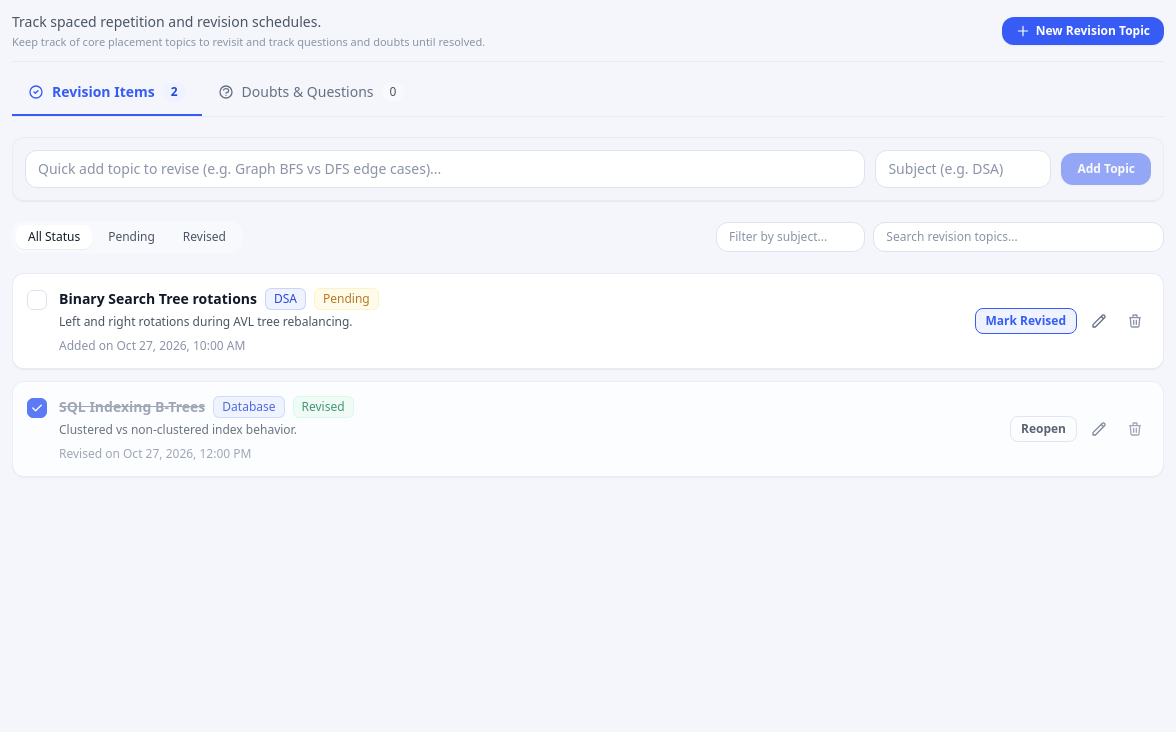
Revision & Doubt Tracking Frontend Test Suite › switches to doubts tab and renders doubts list with resolution
Click the tab "Doubts & Questions 0" at (311, 98), box x1=202 y1=82 x2=420 y2=116
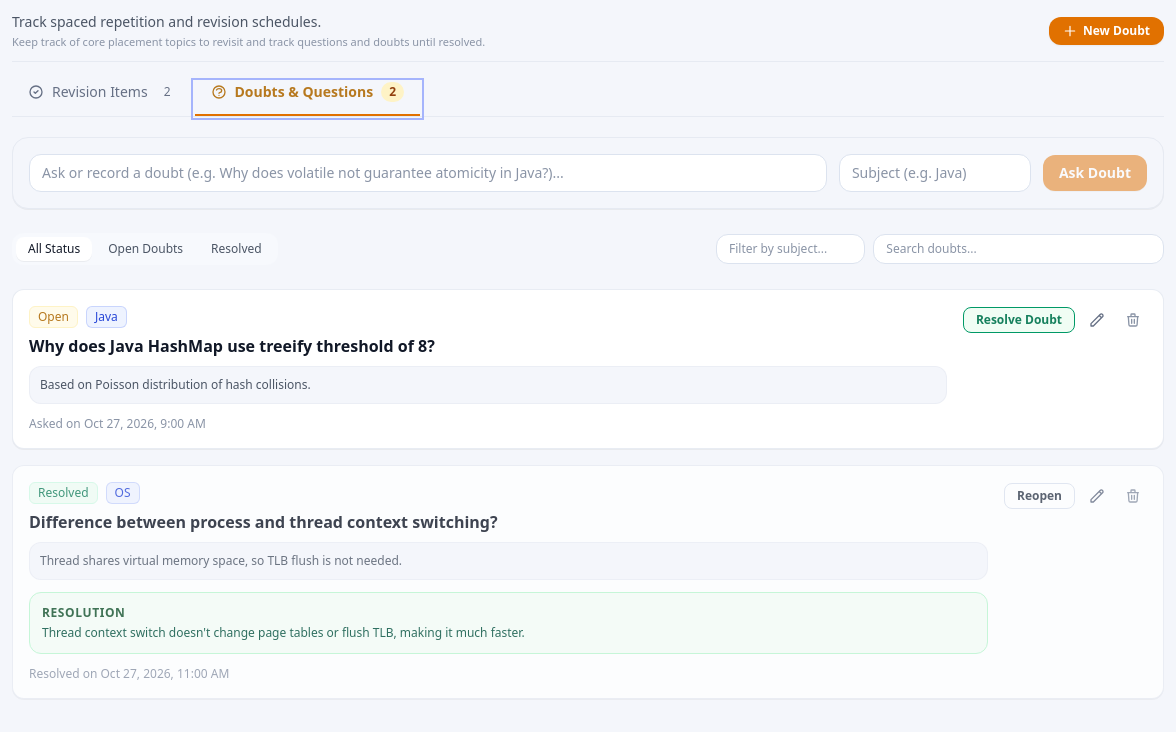
Now the heading "Why does Java HashMap use treeify threshold of 8?" is shown, box x1=29 y1=334 x2=435 y2=356
Now the heading "Difference between process and thread context switching?" is shown, box x1=29 y1=510 x2=498 y2=532
Now the text "Thread context switch doesn't change page tables" is shown, box x1=42 y1=624 x2=525 y2=640
